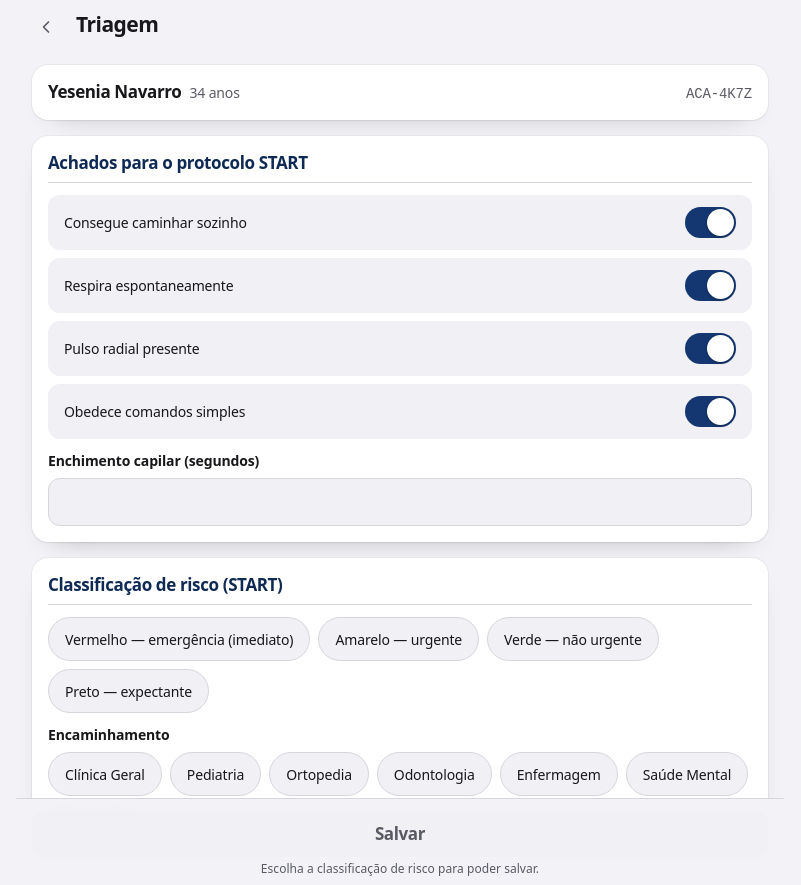
it: Triagem › a sugestão não escolhe a classificação no lugar do profissional
Click the checkbox labelled "Consegue caminhar sozinho" at point(155, 222), box [48,195,752,250]
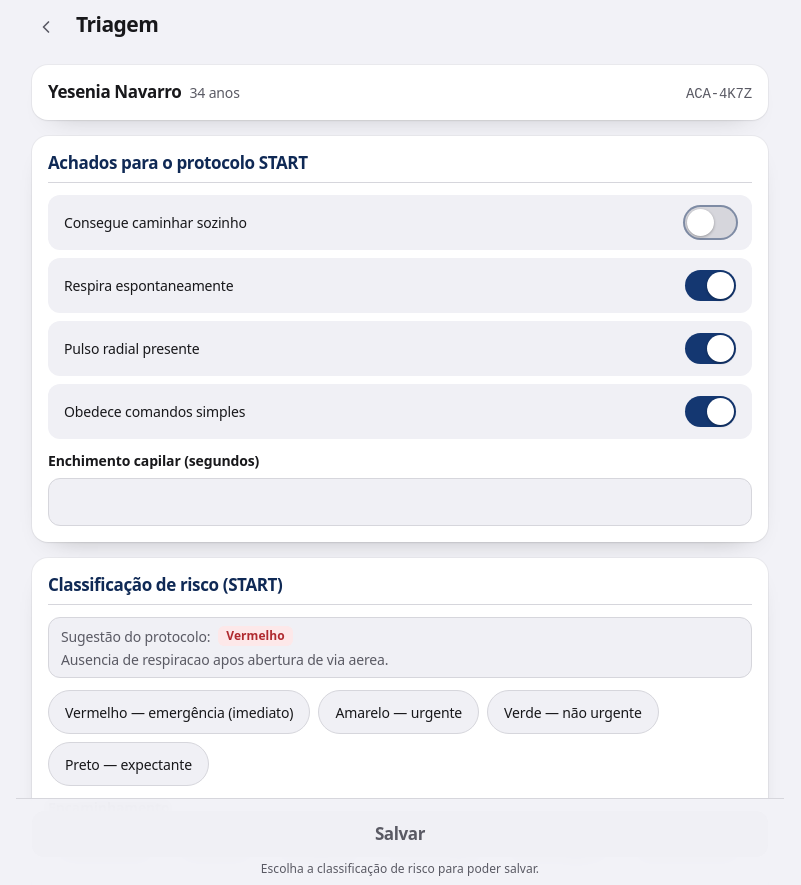
expect the button "Salvar" is disabled: met, box [32,811,768,857]
expect the text "Ausencia de respiracao apos abertura de via aerea." is shown: met, box [61,650,388,669]
